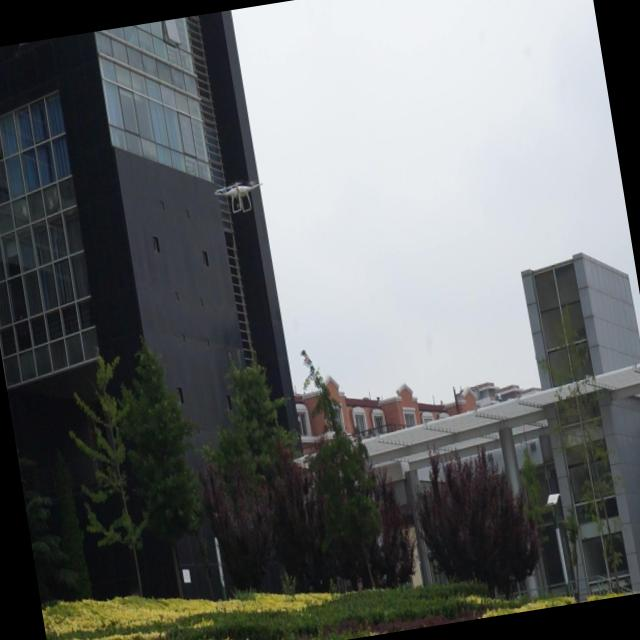drone: (214, 174, 266, 229)
